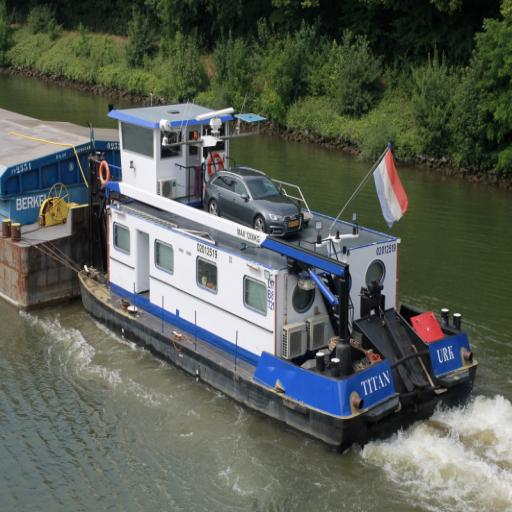tugboat: (74, 96, 485, 462)
